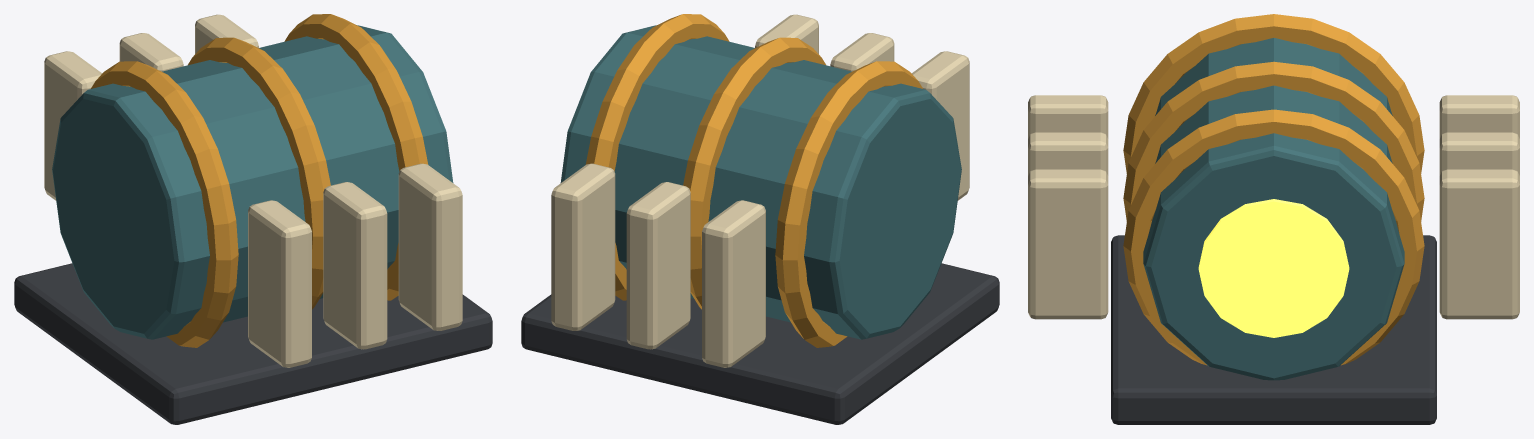
File: reactor-mk2.glb
3 views of the same model, side by side, from view 1: azimuth 30°, elevation 25°; view 2: azimuth 150°, elevation 25°; view 3: azimuth 270°, elevation 25° (orthographic).
Visible parts, largest first — view 1: reactor_mk2 body; view 2: reactor_mk2 body; view 3: reactor_mk2 body.
Part boxes in pixels (x1,y1,x2,y2): reactor_mk2 body: (14, 14, 492, 424); reactor_mk2 body: (521, 14, 999, 424); reactor_mk2 body: (1028, 14, 1519, 424).
Size of the model in its own units: 1.5 by 1.26 by 1.96.
